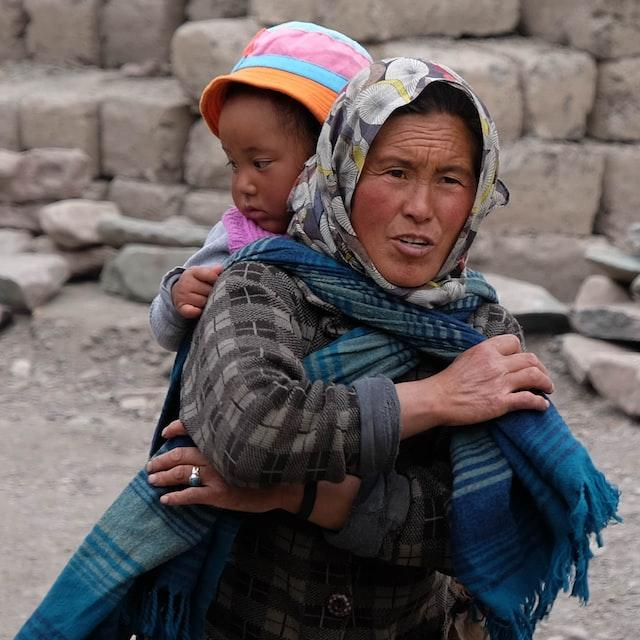crows_feet: (362, 164, 382, 186)
forehead: (400, 122, 456, 158)
gummy_smile: (380, 199, 404, 229), (432, 210, 448, 238)
